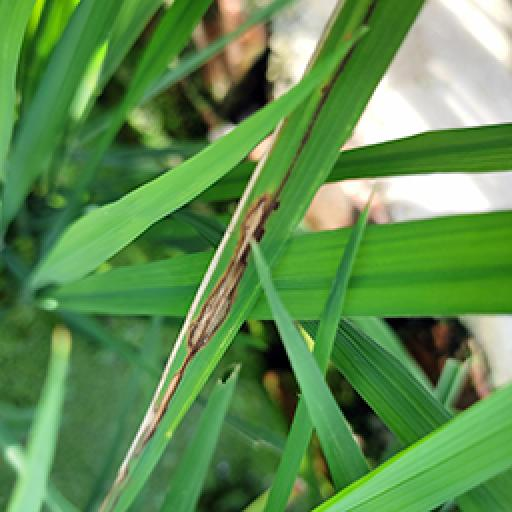Leaf Blast Disease: (84, 352, 220, 490), (176, 196, 296, 348), (268, 30, 366, 194)
